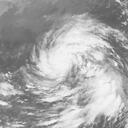cyclone: (30, 20, 110, 95)
